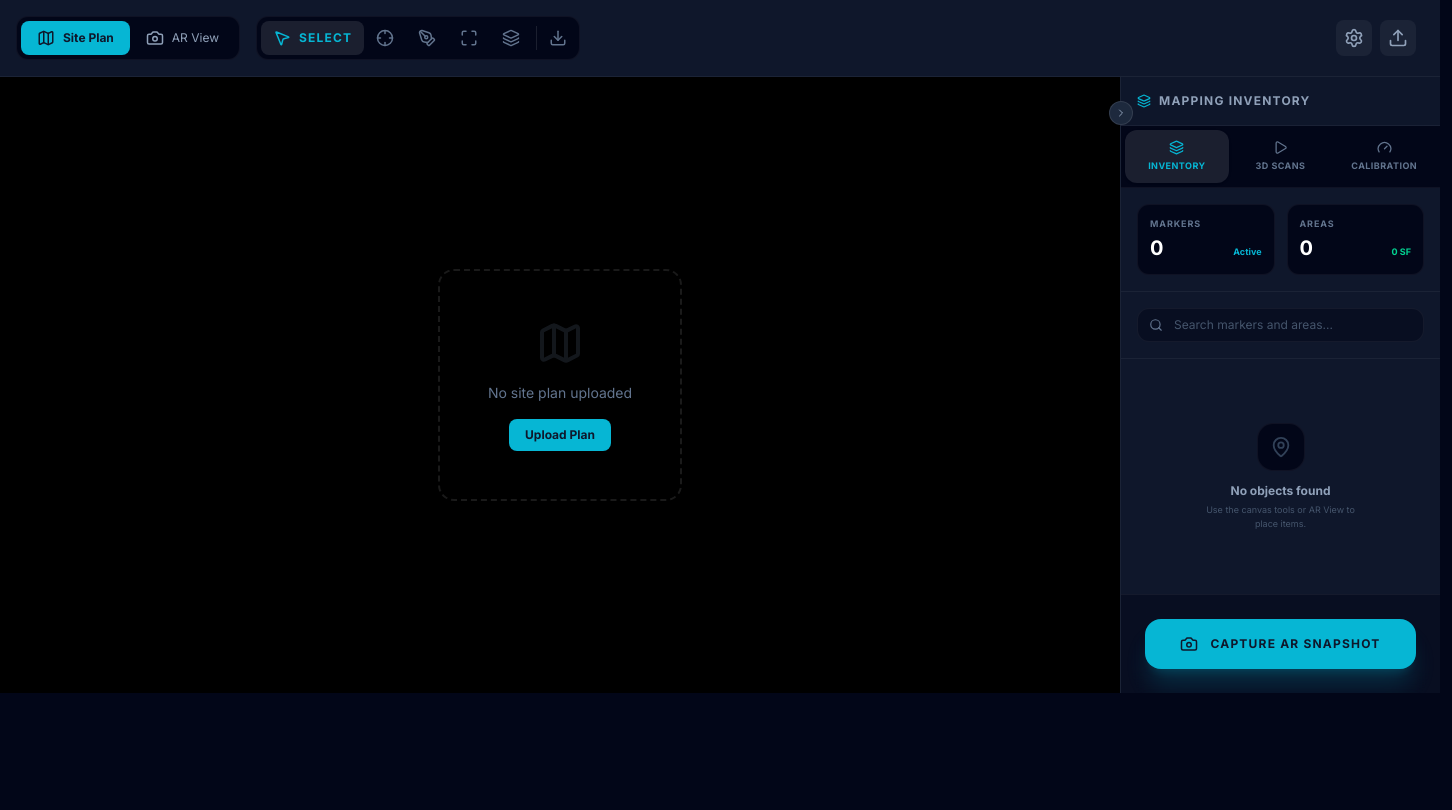
Test: ARMapping › Select Mode button clears the active mode instruction
What coordinates should you click on to do the following:
click the button titled "Place marker"
I would click on:
 (385, 38)
Its box is [364,21,406,55].
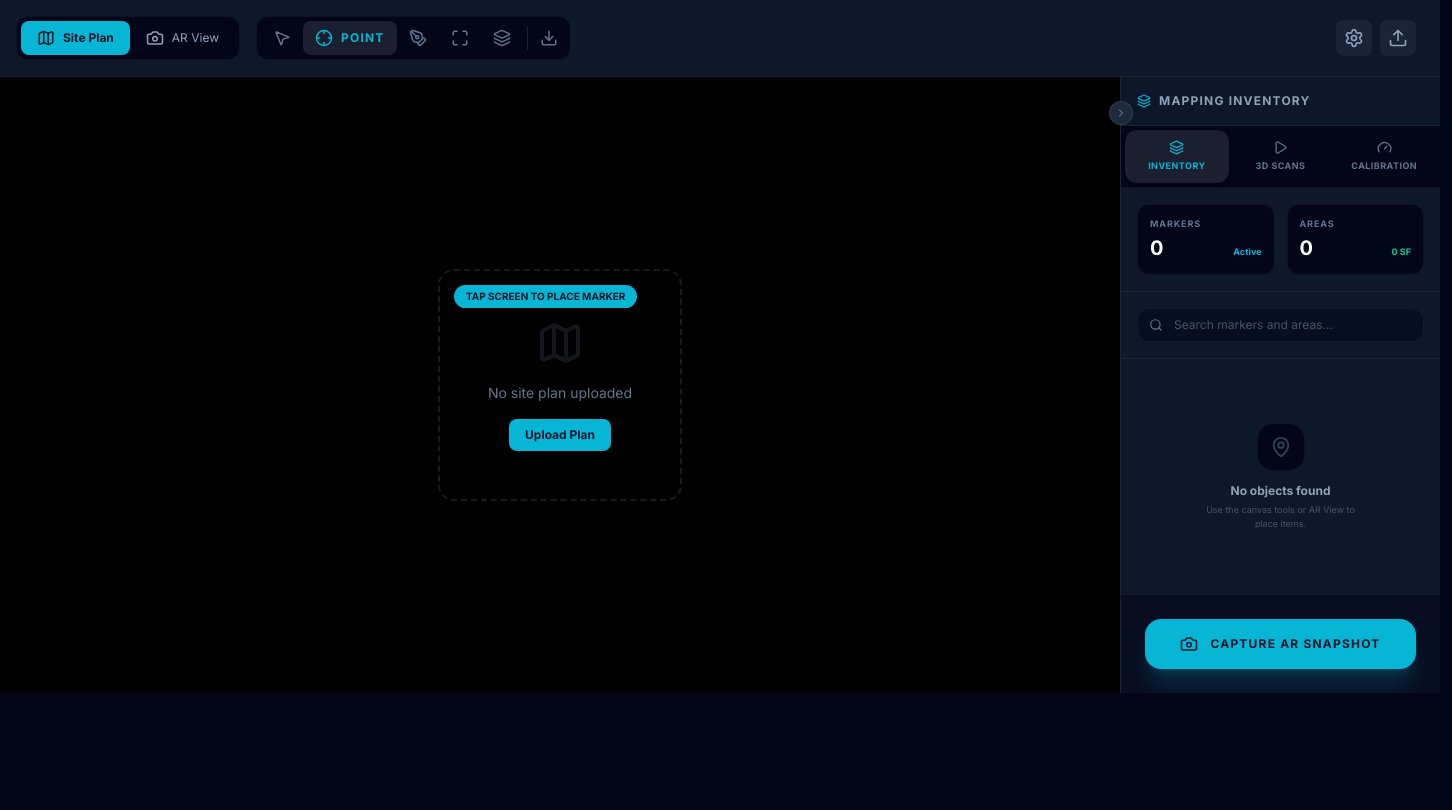
What coordinates should you click on to do the following:
click the button titled "Select objects"
I would click on:
 (282, 38)
Its box is [261,21,303,55].
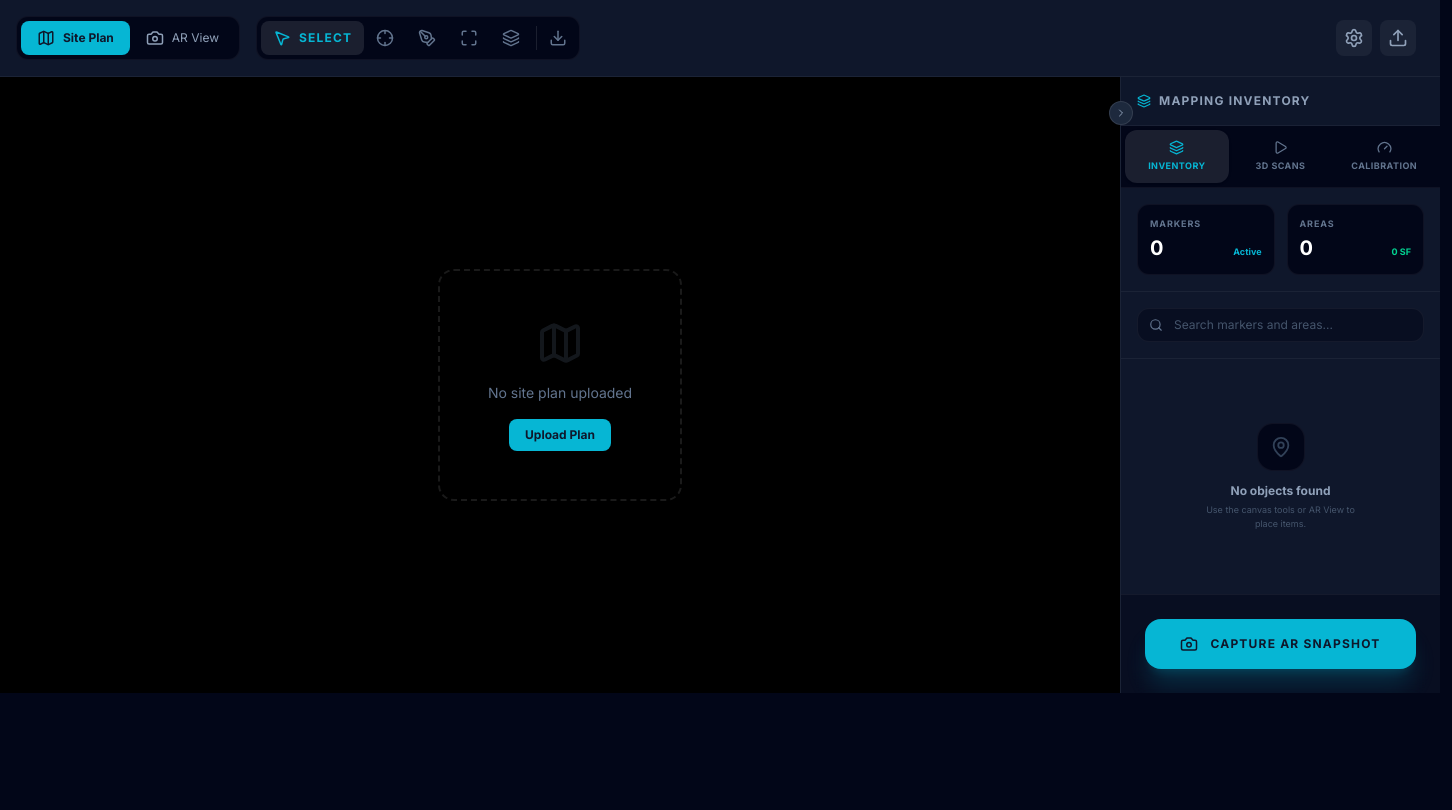
Expected: the text "Tap Screen to Place Marker" is gone
